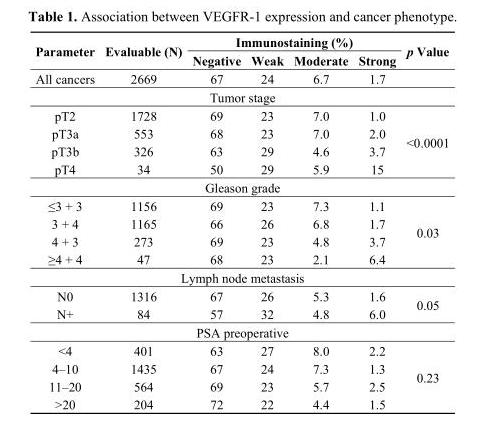table: (34, 34, 448, 411)
table column: (99, 34, 186, 411), (34, 34, 99, 411), (287, 34, 352, 411), (186, 34, 245, 411), (352, 34, 400, 411), (400, 34, 448, 411), (245, 34, 287, 411)
table column header: (34, 34, 448, 69)
table projected row header: (34, 87, 448, 106), (34, 177, 448, 196), (34, 322, 448, 341), (34, 268, 448, 286)
table row: (34, 50, 448, 69), (34, 87, 448, 106), (34, 177, 448, 196), (34, 322, 448, 341), (34, 69, 448, 87), (34, 106, 448, 124), (34, 124, 448, 142), (34, 159, 448, 177), (34, 196, 448, 214), (34, 214, 448, 232), (34, 232, 448, 250), (34, 250, 448, 268), (34, 268, 448, 286), (34, 286, 448, 304), (34, 304, 448, 322), (34, 341, 448, 359), (34, 359, 448, 377), (34, 142, 448, 159), (34, 377, 448, 394), (34, 394, 448, 411), (34, 34, 448, 50)
table spanning cell: (400, 196, 448, 268), (186, 34, 400, 50), (400, 106, 448, 177), (400, 341, 448, 411), (99, 34, 186, 69), (34, 34, 99, 69), (400, 286, 448, 322), (400, 34, 448, 69)
